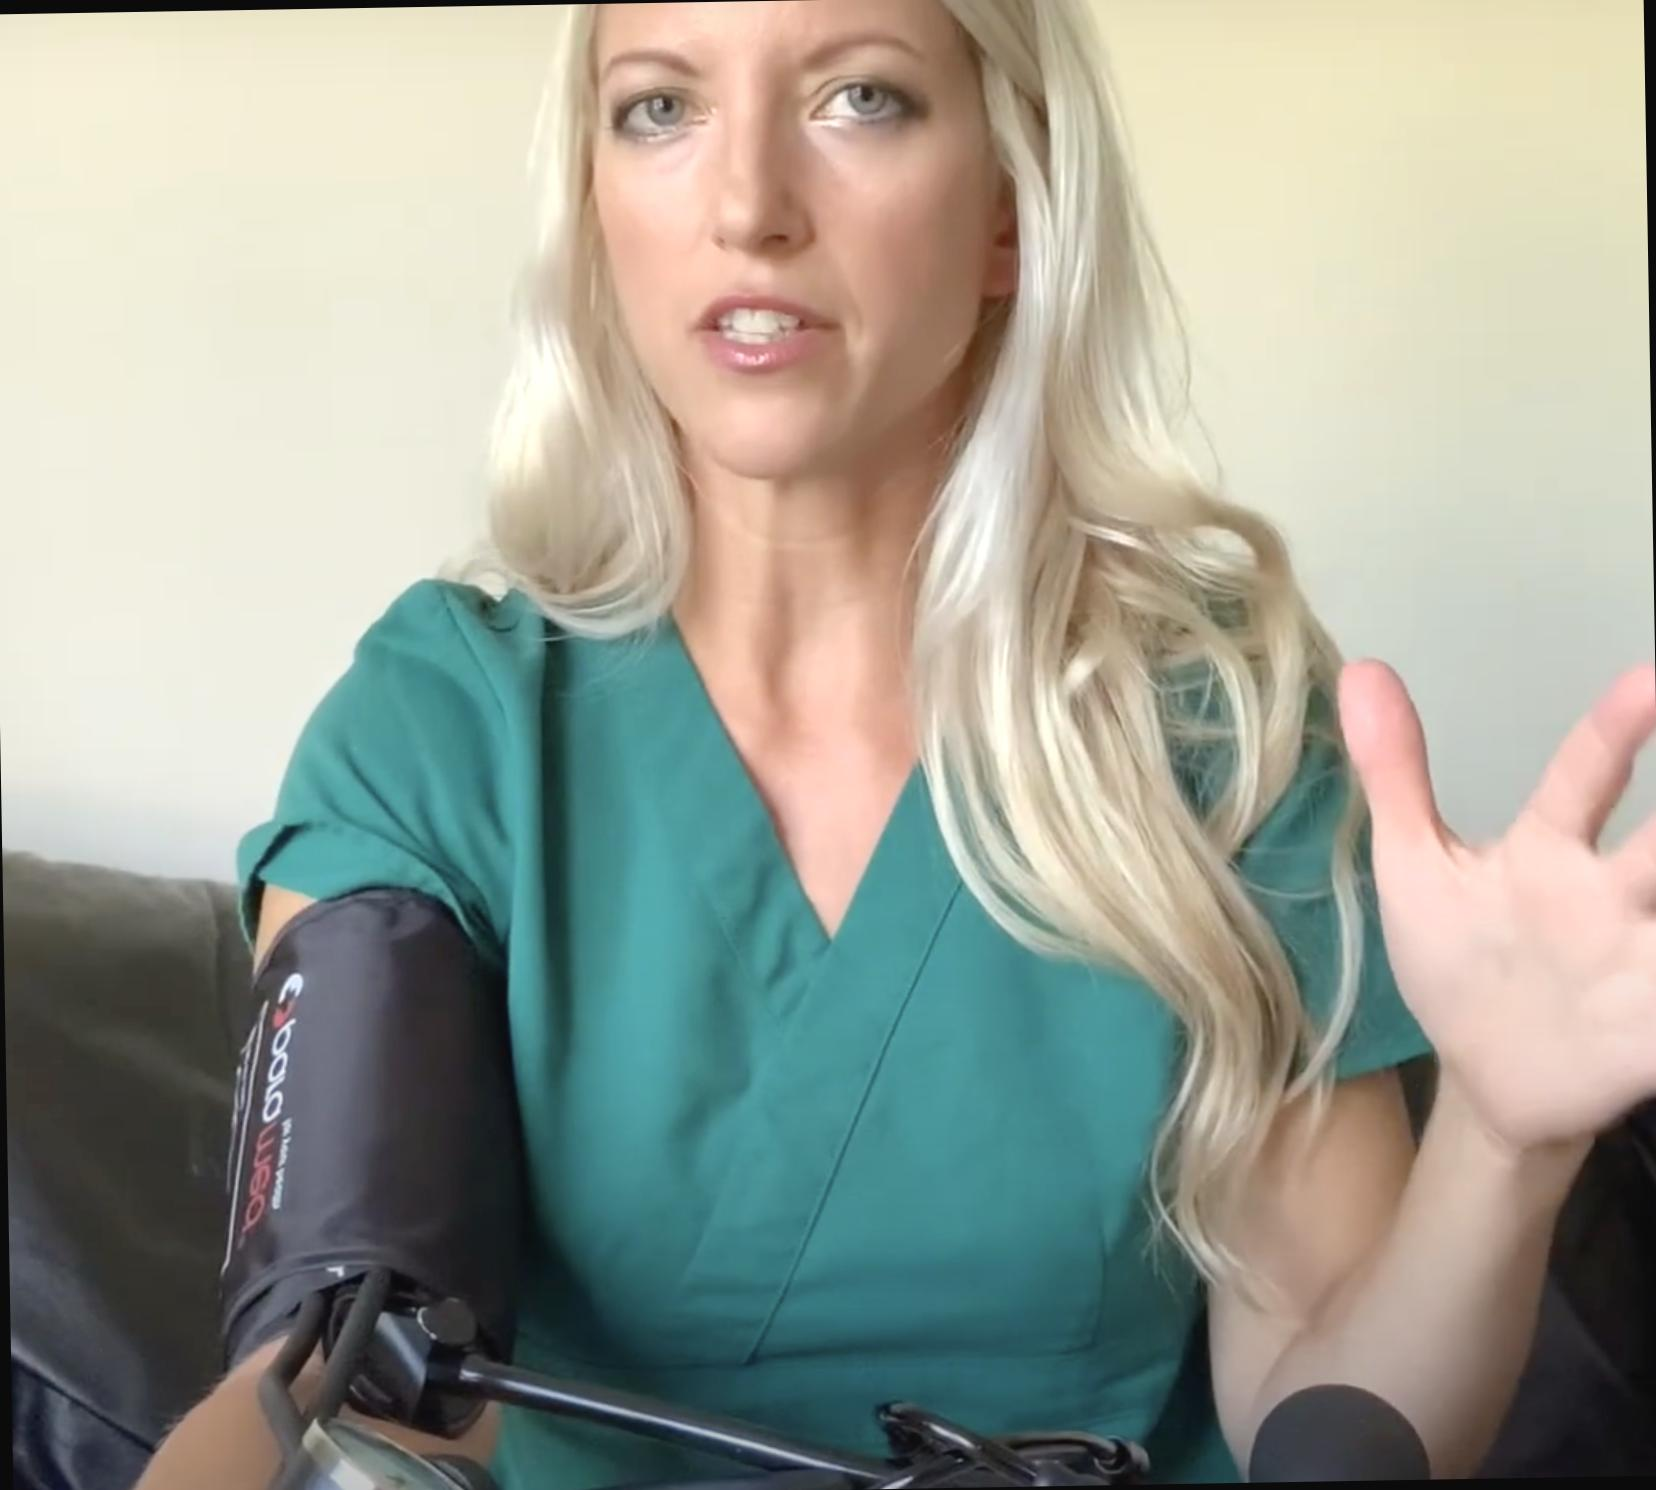cuff: (222, 876, 527, 1398)
